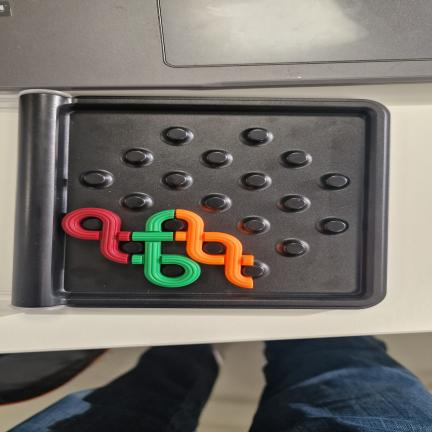I_Orange: (176, 210, 253, 288)
J_DarkRed: (62, 208, 131, 263)
K_YellowGreen: (132, 210, 200, 287)
board: (12, 90, 389, 309)
hinge: (7, 91, 65, 309)
pin: (125, 150, 146, 163), (81, 218, 102, 231), (284, 242, 305, 255), (162, 265, 184, 277), (287, 152, 307, 165), (247, 129, 268, 141), (206, 152, 227, 164), (84, 173, 105, 185), (165, 174, 186, 186), (245, 175, 266, 187), (326, 175, 347, 187), (285, 197, 306, 209), (205, 197, 226, 209), (164, 219, 185, 231), (325, 220, 346, 232), (204, 242, 225, 254), (243, 265, 264, 277), (167, 128, 187, 140), (125, 196, 145, 208), (245, 220, 265, 232), (122, 242, 143, 253)
